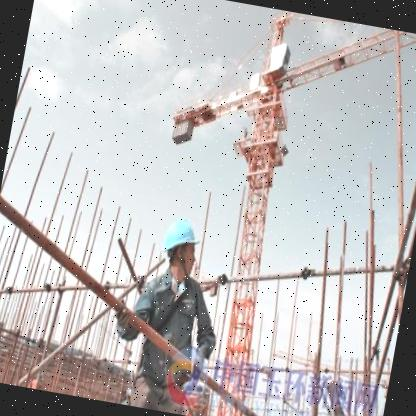capacete: (156, 214, 204, 286)
sem_colete_refletivo: (123, 271, 223, 396)
